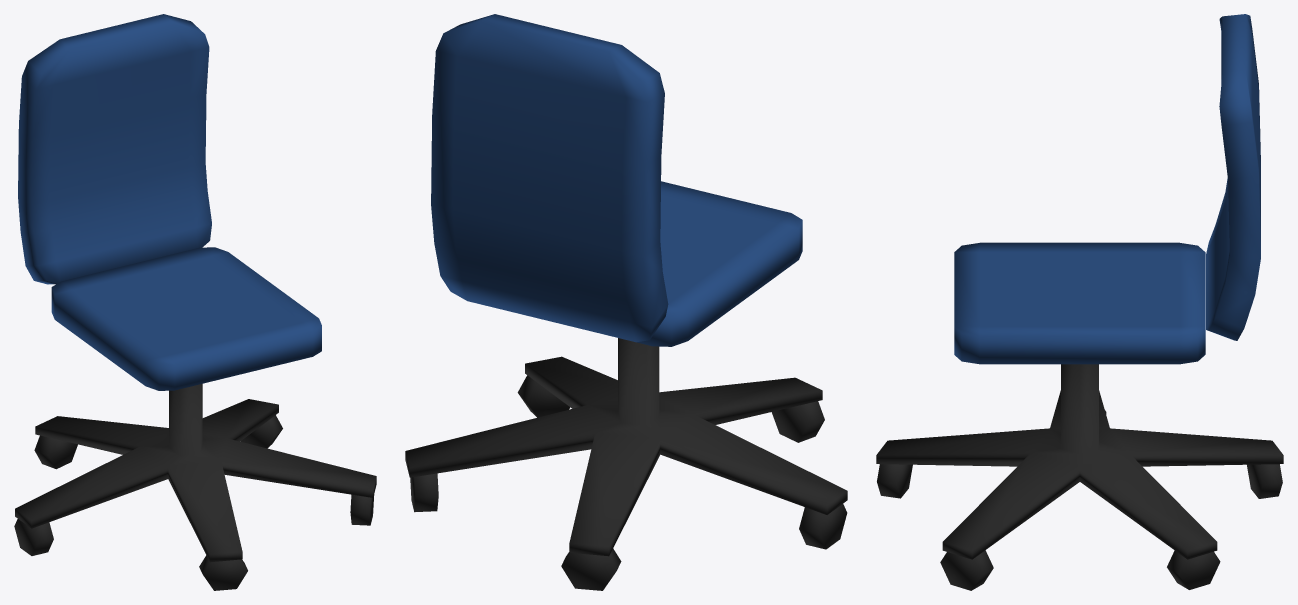
File: Cadeira_Escritorio_Simples.fbx
3 views of the same model, side by side, from view 1: azimuth 30°, elevation 25°; view 2: azimuth 150°, elevation 25°; view 3: azimuth 270°, elevation 25° (orthographic). The views are drawn at different scales.
Visible parts, largest first — view 1: Cubo.025; view 2: Cubo.025; view 3: Cubo.025.
Boxes of the visible parts, x1,y1,x2,y2 form: Cubo.025: (14, 14, 376, 590); Cubo.025: (405, 14, 847, 590); Cubo.025: (876, 14, 1283, 590).
Bounding box in the file's own units: 127 × 171 × 133.
